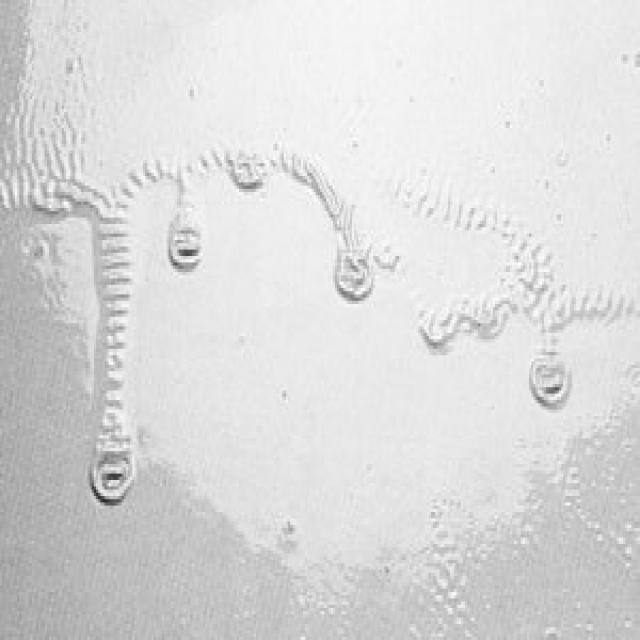paint drips: (359, 123, 629, 480), (23, 147, 221, 536), (174, 101, 400, 386)
